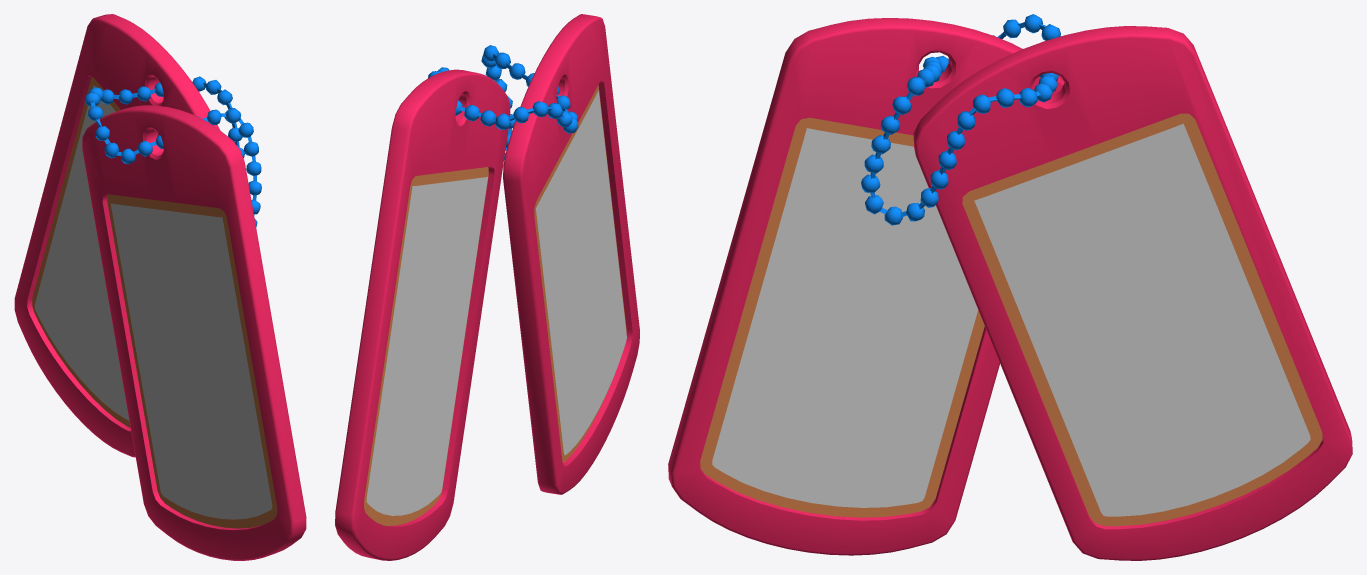
File: dogtag.fbx
3 renders of one model, left to right at view 1: azimuth 30°, elevation 25°; view 2: azimuth 150°, elevation 25°; view 3: azimuth 270°, elevation 25°, orthographic. The views are drawn at different scales.
Visible parts, largest first — view 1: Sphere, Sphere.004, Sphere.001; view 2: Sphere, Sphere.004, Sphere.001; view 3: Sphere.004, Sphere, Sphere.001.
Boxes of the visible parts, bbox=[...] form: Sphere: bbox=[14, 14, 306, 560]; Sphere.004: bbox=[34, 85, 272, 519]; Sphere.001: bbox=[32, 77, 277, 528]; Sphere: bbox=[335, 14, 639, 560]; Sphere.004: bbox=[366, 90, 626, 515]; Sphere.001: bbox=[364, 85, 626, 525]; Sphere.004: bbox=[712, 123, 1310, 516]; Sphere: bbox=[668, 14, 1352, 560]; Sphere.001: bbox=[700, 113, 1322, 526].
Bounding box in the file's own units: 76.36 × 240 × 275.
